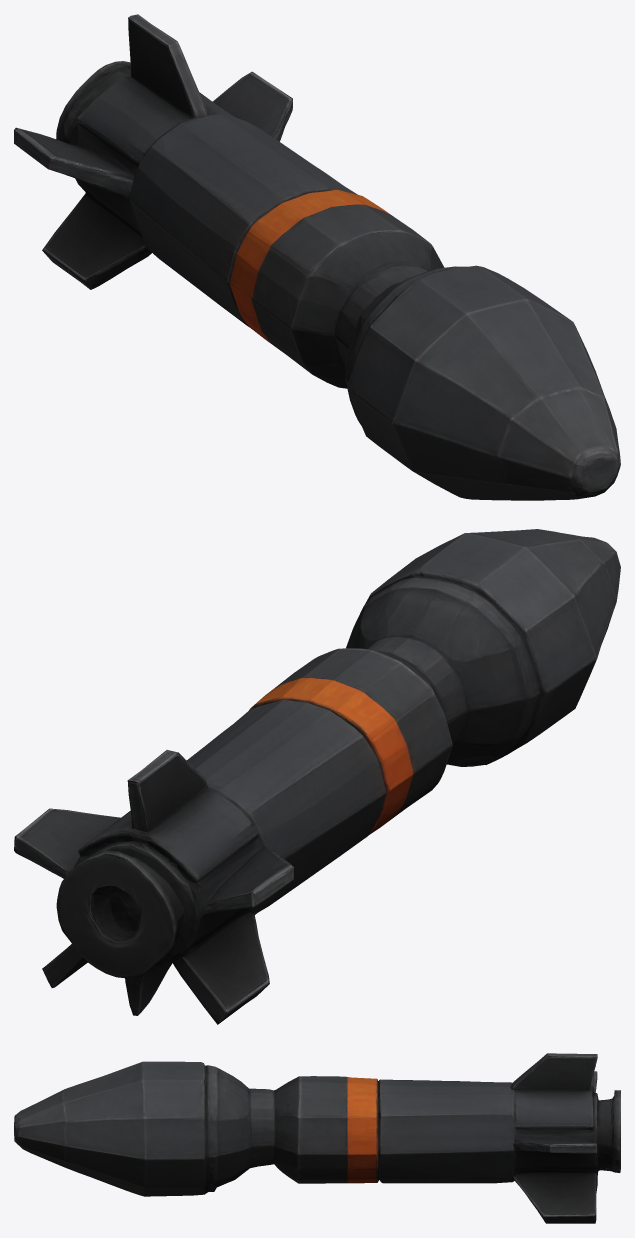
File: weapon-rocket-projectile.glb
The picture shows the model from 3 angles, top to bottom: view 1: azimuth 30°, elevation 25°; view 2: azimuth 150°, elevation 25°; view 3: azimuth 270°, elevation 25°; orthographic projection. The views are drawn at different scales.
Parts seen in each view (by area): view 1: world; view 2: world; view 3: world.
Part boxes in pixels (x1=…): world: x1=14, y1=14, x2=620, y2=500; world: x1=14, y1=529, x2=620, y2=1024; world: x1=14, y1=1053, x2=620, y2=1223.
Size of the model in its own units: 0.2918 by 0.2712 by 1.
1 material, 1 textured.
